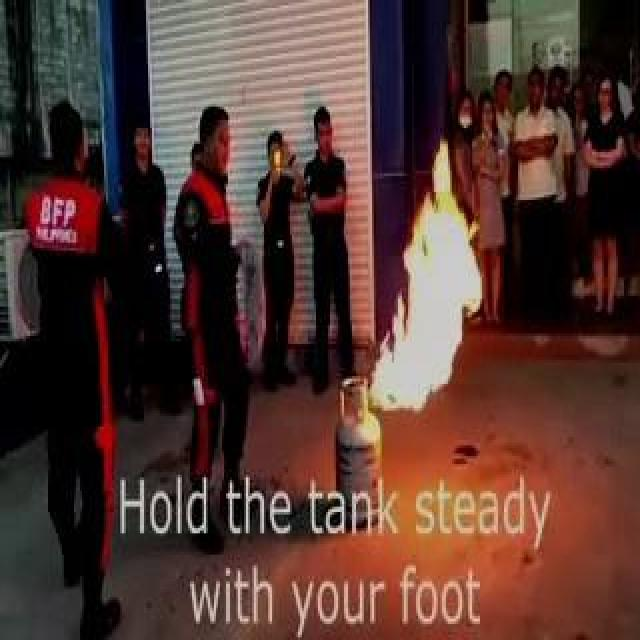Fire: (358, 146, 486, 418)
